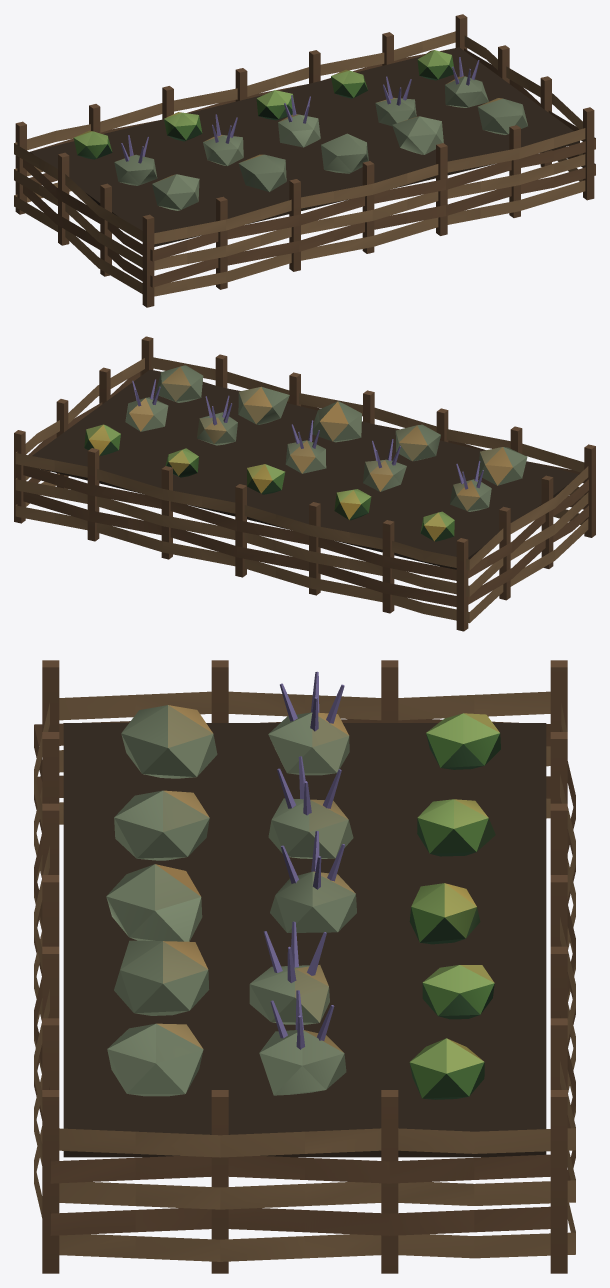
Rendered from raised_bed.glb.
3 views of the same model, one above another, from view 1: azimuth 30°, elevation 25°; view 2: azimuth 150°, elevation 25°; view 3: azimuth 270°, elevation 25° (orthographic). The views are drawn at different scales.
Visible parts, largest first — view 1: isl_raised_bed; view 2: isl_raised_bed; view 3: isl_raised_bed.
Boxes of the visible parts, left/top/right/bottom form: isl_raised_bed: left=14, top=14, right=595, bottom=307; isl_raised_bed: left=14, top=336, right=595, bottom=631; isl_raised_bed: left=34, top=660, right=575, bottom=1273.
Size of the model in its own units: 2.48 by 0.5413 by 1.28.
